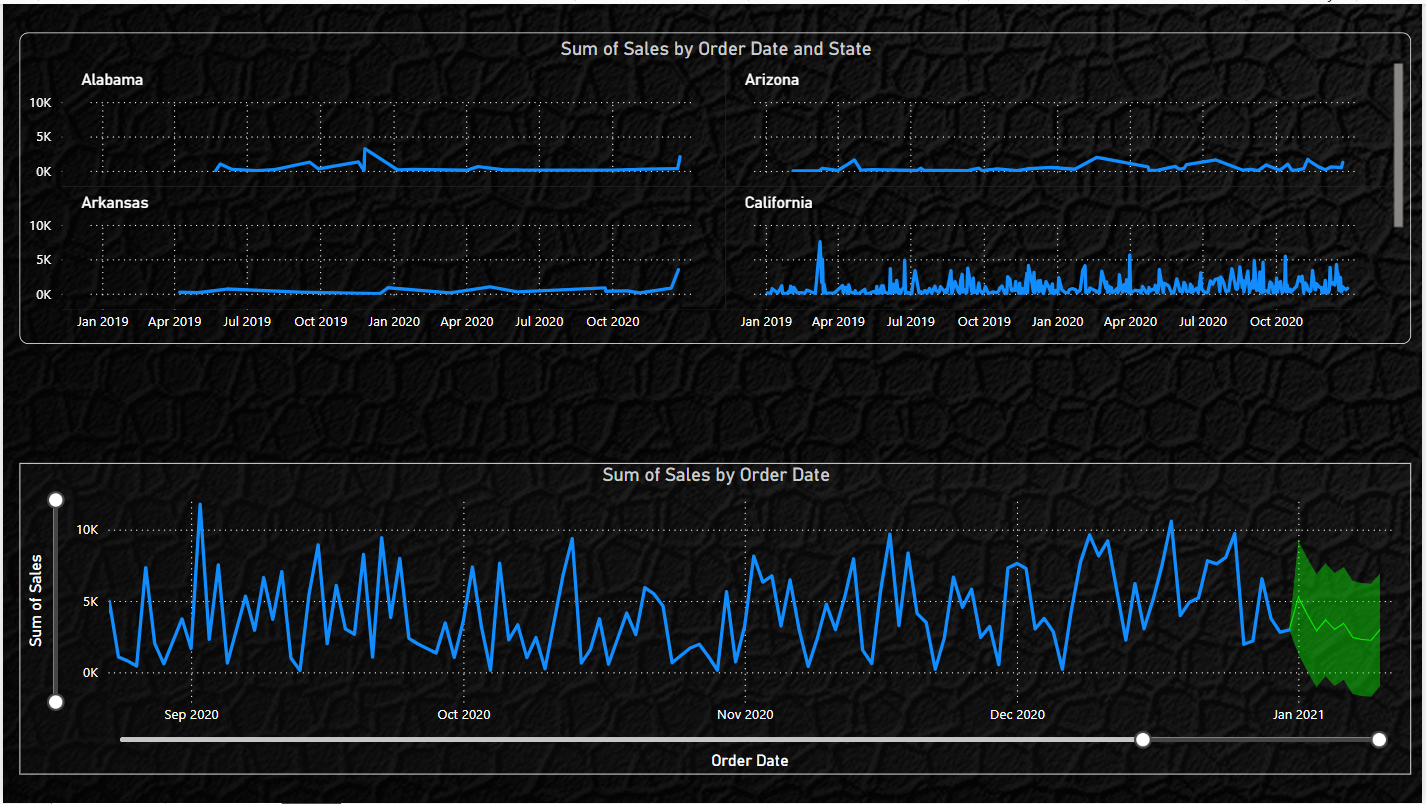

What the dashboard file says about the page in this screenshot:
{"tool":"powerbi","page":{"name":"Page 2","canvas":[1280,720],"ordinal":1},"visuals":[{"type":"lineChart","fields":{"Y":["Sum(SuperStore_Sales_Dataset.Sales)"],"Category":["SuperStore_Sales_Dataset.Order Date"],"Rows":["SuperStore_Sales_Dataset.State"]},"box":[14.5,25.6,1254.2,280.4],"z":0},{"type":"lineChart","fields":{"Y":["Sum(SuperStore_Sales_Dataset.Sales)"],"Category":["SuperStore_Sales_Dataset.Order Date"]},"box":[14.5,414,1254.2,280.4],"z":1000}]}

Visuals, with their boxes in screenshot pixels (x1, y1, x2, y2), scaled from the page's 1280x720 canvas onto the 1426x804 screenshot:
lineChart - Sum(SuperStore_Sales_Dataset.Sales) x SuperStore_Sales_Dataset.Order Date: bbox=[16, 29, 1413, 342]
lineChart - Sum(SuperStore_Sales_Dataset.Sales) x SuperStore_Sales_Dataset.Order Date: bbox=[16, 462, 1413, 775]
